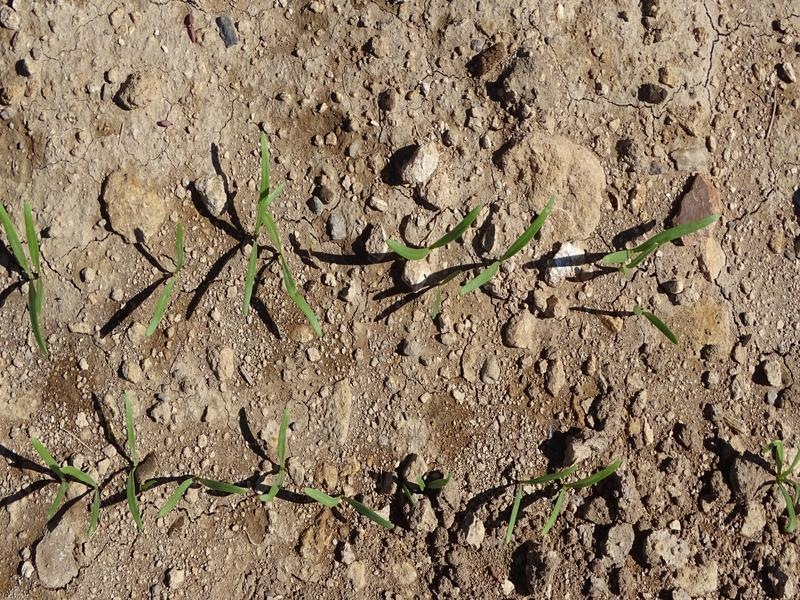Espinaca: (238, 130, 327, 339), (465, 194, 559, 296), (492, 460, 626, 530), (2, 199, 61, 357), (598, 213, 723, 268), (385, 198, 481, 264), (297, 482, 399, 537), (147, 223, 190, 335), (157, 473, 249, 516), (119, 397, 147, 534), (257, 405, 292, 504), (762, 437, 800, 527), (33, 436, 66, 515), (66, 464, 102, 534)
